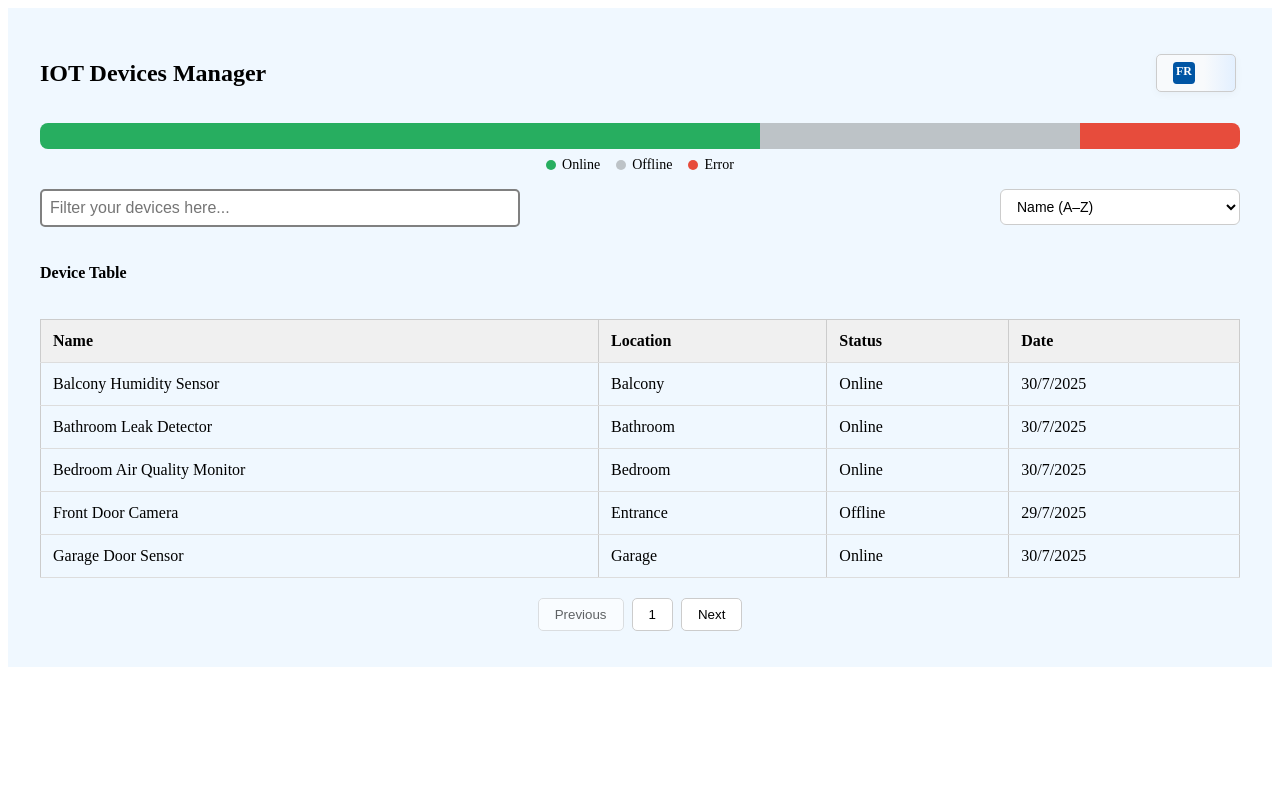
Test: DeviceGrid Page › should filter devices using the search bar
Type "Sensor" into the search field with placeholder "Filter your devices here...".
click(280, 208); type("Sensor")  # box [40, 189, 520, 227]
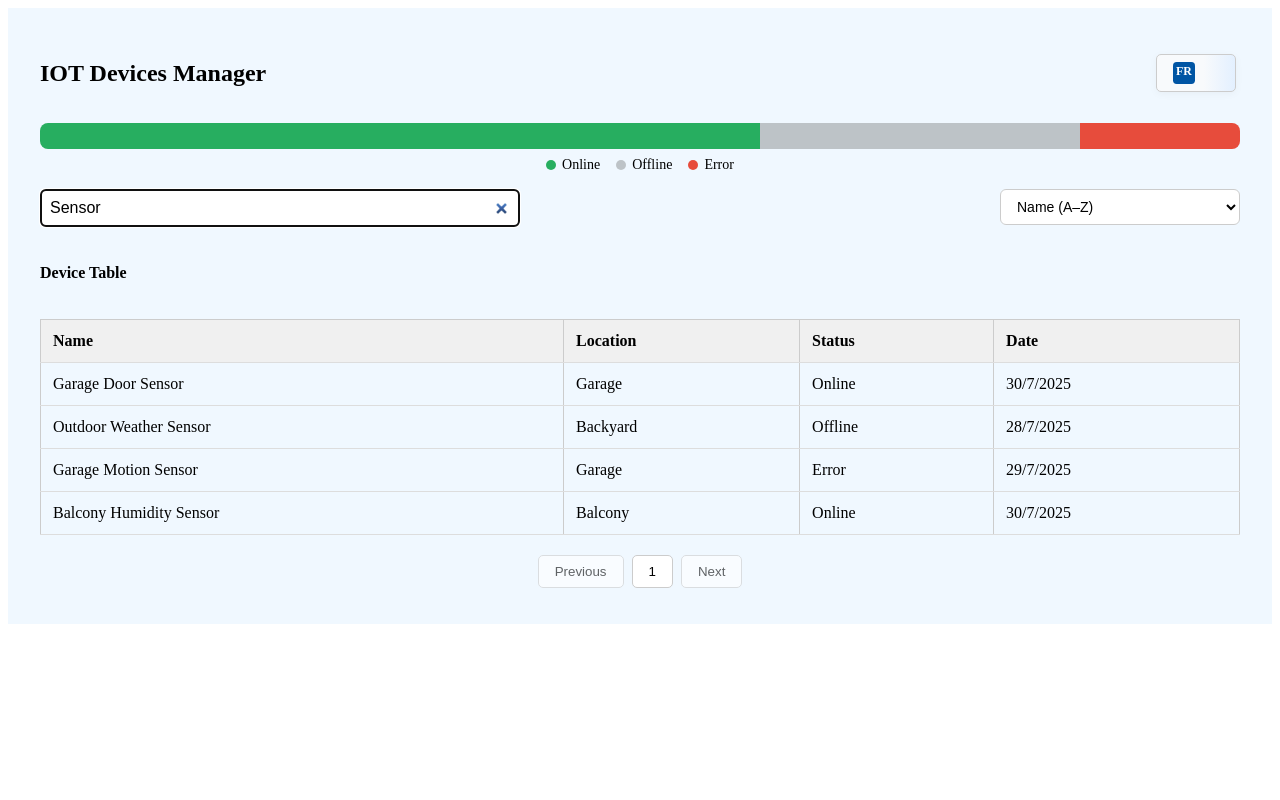
Check: the number of rows is more than 1
